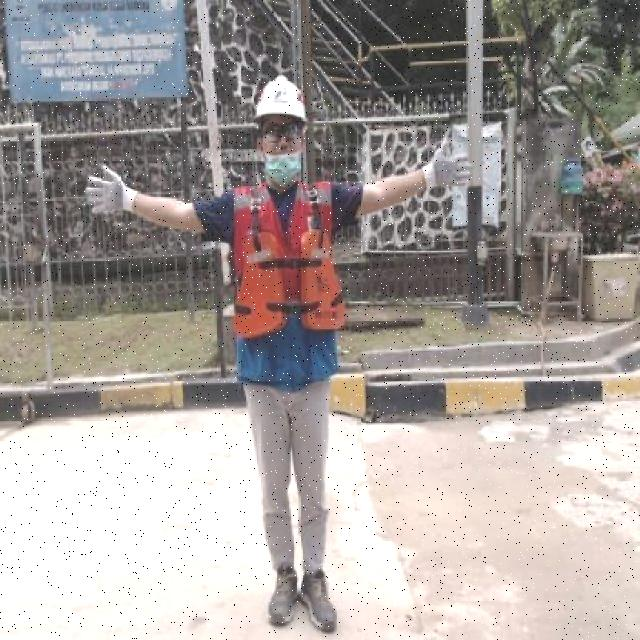Boots: (298, 570, 336, 632), (266, 563, 297, 628)
Gloves: (81, 156, 136, 229), (422, 134, 473, 192)
Helmet: (252, 68, 310, 124)
Mask: (233, 182, 344, 386)
